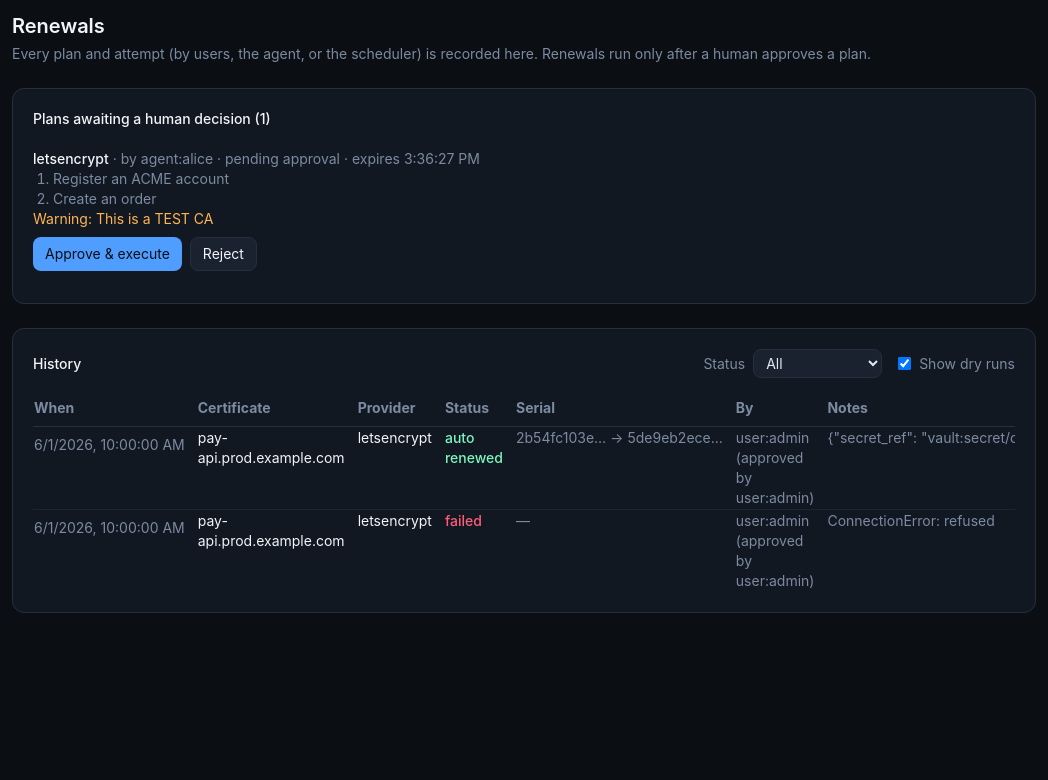
Test: Renewals: plans awaiting a human decision › an operator approves and executes: approve first, then execute
Click the button "Approve & execute" at coordinates (107, 254), box x1=33 y1=237 x2=182 y2=271
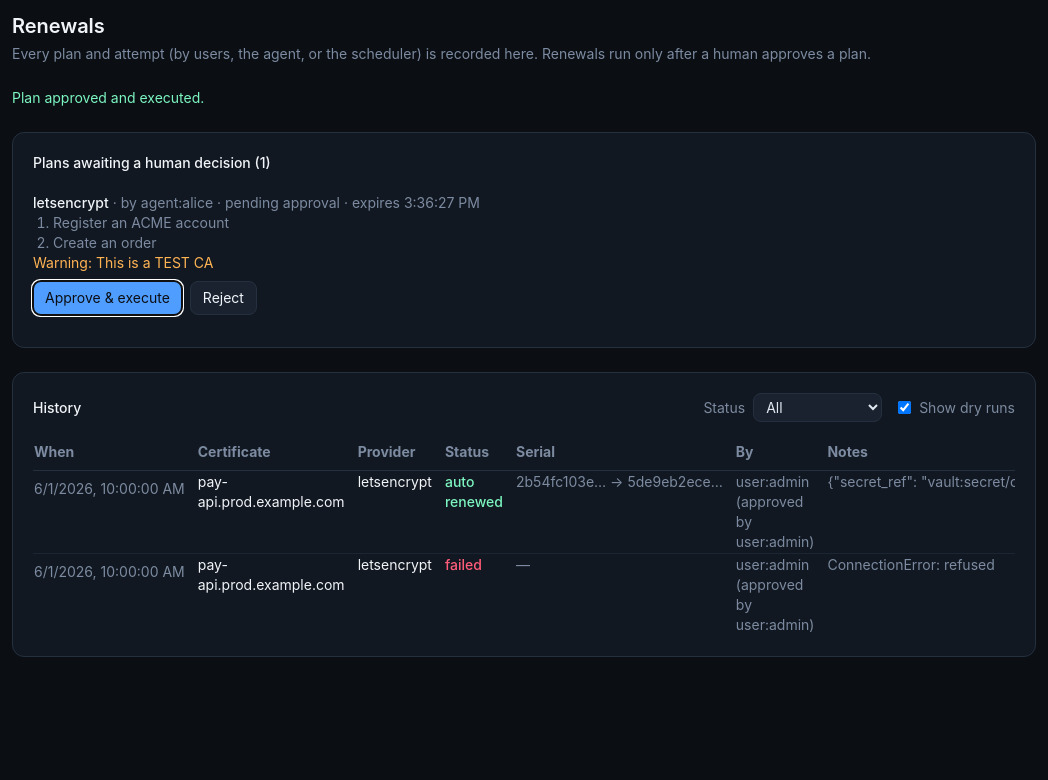
Check: the message reads "Plan approved and executed.", box x1=12 y1=89 x2=204 y2=106
